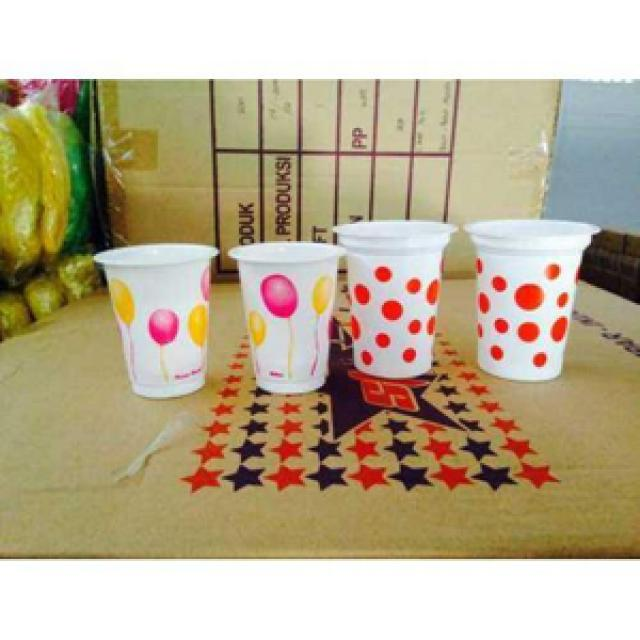plastic cup: (461, 212, 602, 390), (90, 237, 224, 407), (331, 211, 463, 380), (226, 233, 352, 401)
